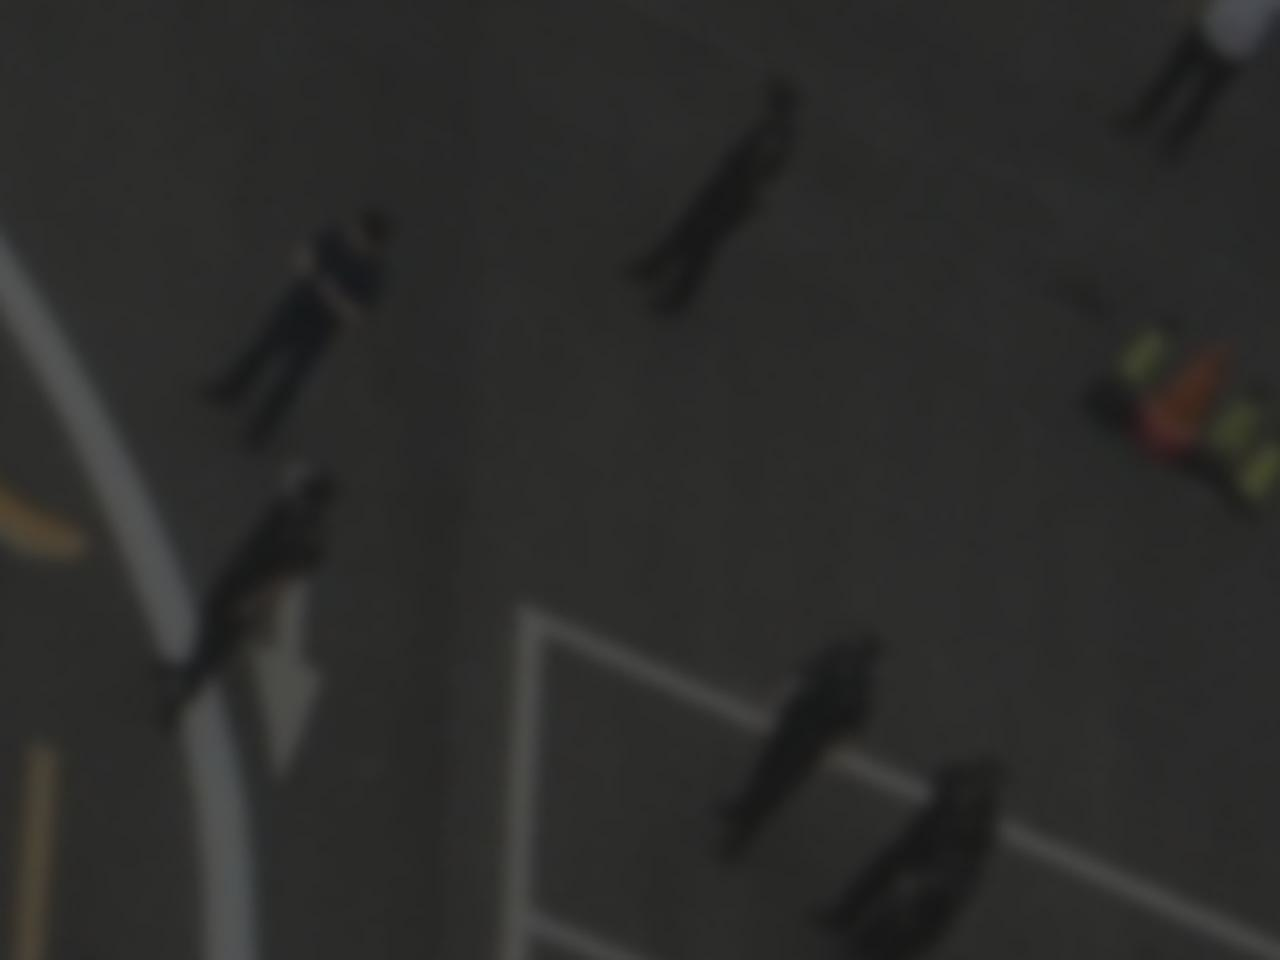Apron: (1, 135, 357, 952)
